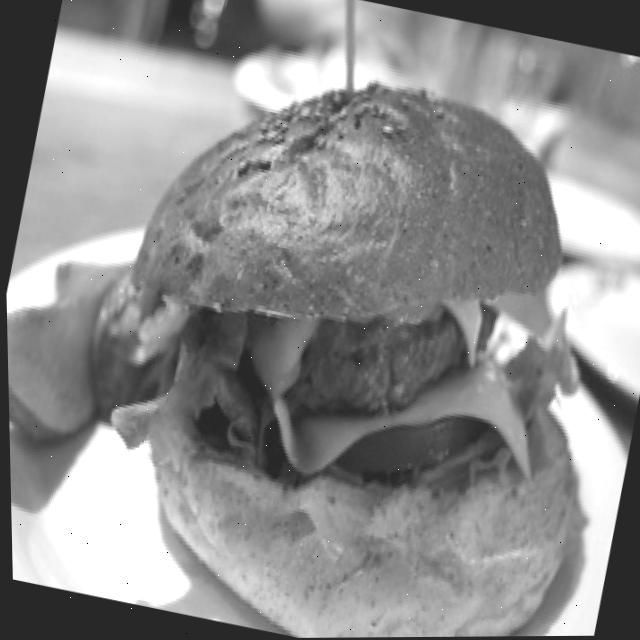汉堡快餐: (59, 9, 640, 640)
